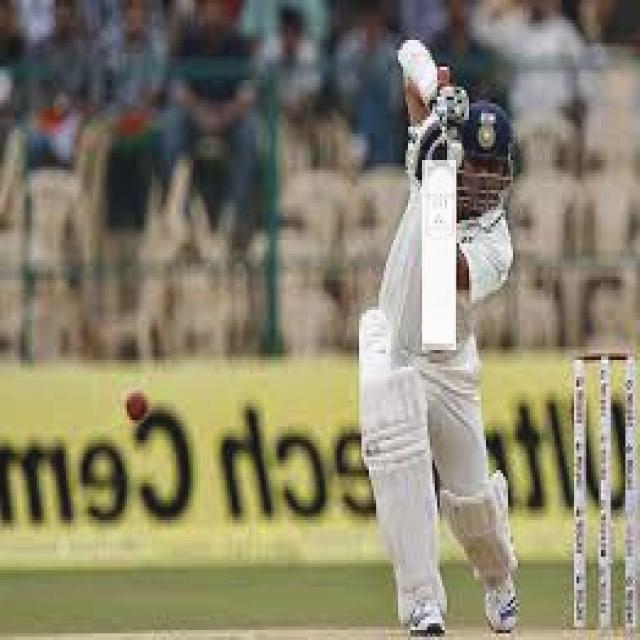bat: (421, 160, 461, 352)
toe: (419, 339, 462, 354)
